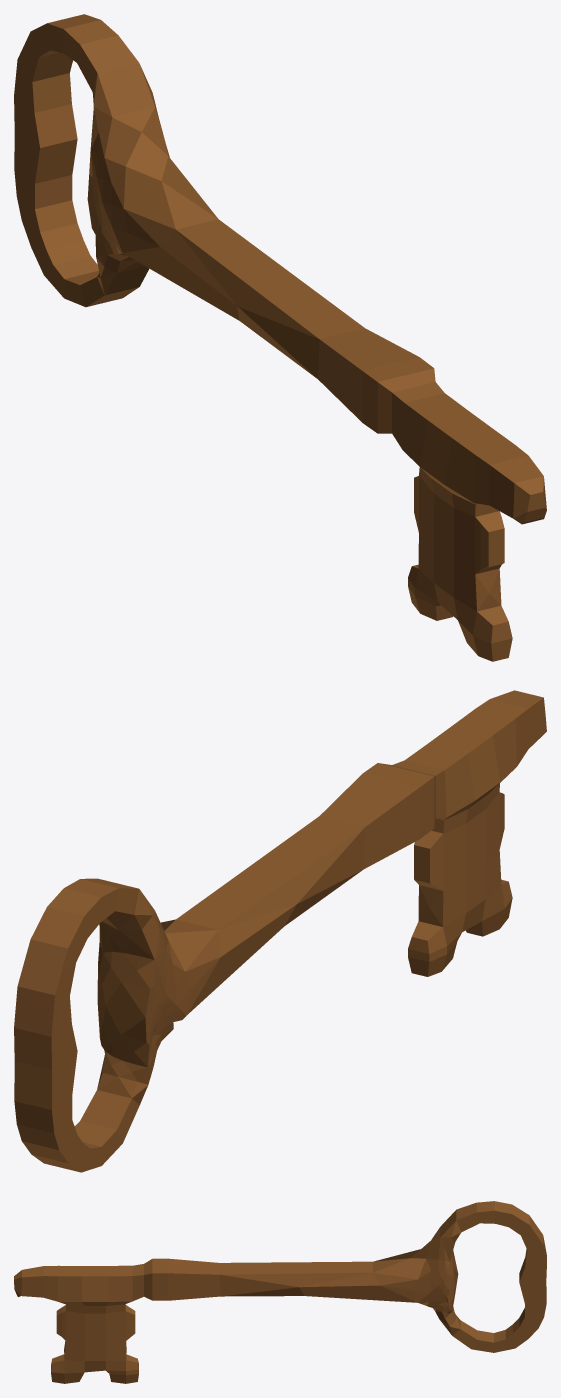
File: chaveporta1.fbx
3 views of the same model, one above another, from view 1: azimuth 30°, elevation 25°; view 2: azimuth 150°, elevation 25°; view 3: azimuth 270°, elevation 25° (orthographic). The views are drawn at different scales.
Visible parts, largest first — view 1: chave1; view 2: chave1; view 3: chave1.
Part boxes in pixels (x1=…): chave1: x1=14, y1=14, x2=546, y2=661; chave1: x1=14, y1=690, x2=546, y2=1172; chave1: x1=14, y1=1201, x2=546, y2=1383.
Bounding box in the file's own units: 0.1943 × 0.9608 × 2.65.
